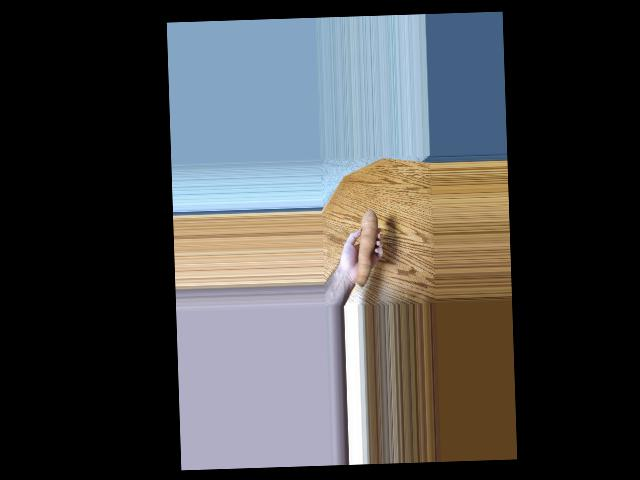sweet_potato: (352, 209, 385, 283)
